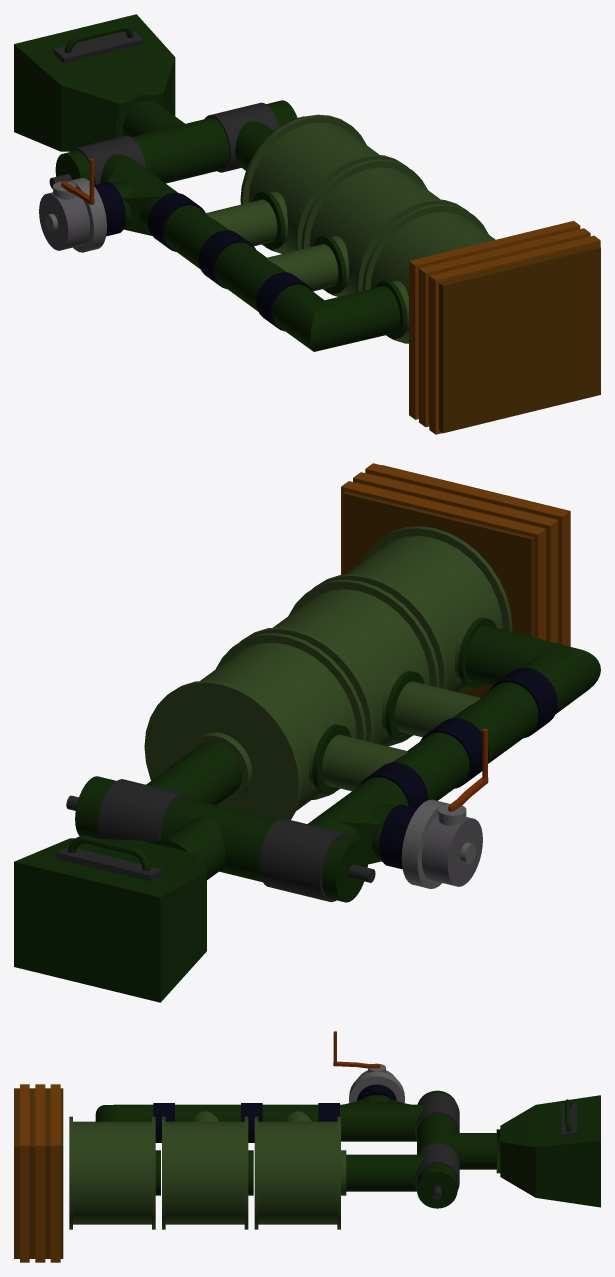
Rendered from FVM.fbx.
The picture shows the model from 3 angles, top to bottom: view 1: azimuth 30°, elevation 25°; view 2: azimuth 150°, elevation 25°; view 3: azimuth 270°, elevation 25°; orthographic projection. The views are drawn at different scales.
Parts seen in each view (by area): view 1: Tubes, FVU, Filter 1, Filter 2, Filter 3, Motor; view 2: Tubes, Filter 1, FVU, Filter 2, Filter 3, Motor, Hand; view 3: Tubes, Filter 1, Filter 2, Filter 3, FVU, Motor, Hand.
Part boxes in pixels (x1=…): Tubes: x1=14, y1=14, x2=400, y2=351; FVU: x1=409, y1=221, x2=600, y2=434; Filter 1: x1=240, y1=114, x2=407, y2=253; Filter 2: x1=301, y1=159, x2=468, y2=296; Filter 3: x1=362, y1=204, x2=495, y2=343; Motor: x1=39, y1=177, x2=106, y2=252; Tubes: x1=14, y1=625, x2=600, y2=1002; Filter 1: x1=144, y1=633, x2=366, y2=819; FVU: x1=341, y1=463, x2=570, y2=697; Filter 2: x1=239, y1=579, x2=439, y2=746; Filter 3: x1=312, y1=526, x2=512, y2=692; Motor: x1=401, y1=799, x2=482, y2=888; Hand: x1=448, y1=728, x2=488, y2=811; Tubes: x1=95, y1=1084, x2=600, y2=1208; Filter 1: x1=254, y1=1116, x2=346, y2=1229; Filter 2: x1=162, y1=1116, x2=253, y2=1229; Filter 3: x1=69, y1=1116, x2=160, y2=1229; FVU: x1=14, y1=1084, x2=63, y2=1262; Motor: x1=349, y1=1063, x2=404, y2=1102; Hand: x1=333, y1=1031, x2=380, y2=1068.
Bounding box in the file's own units: 1.17 × 0.5505 × 2.46.
